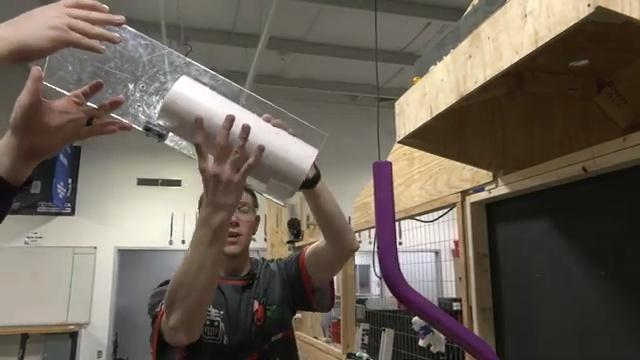CORAL: (156, 75, 319, 202)
